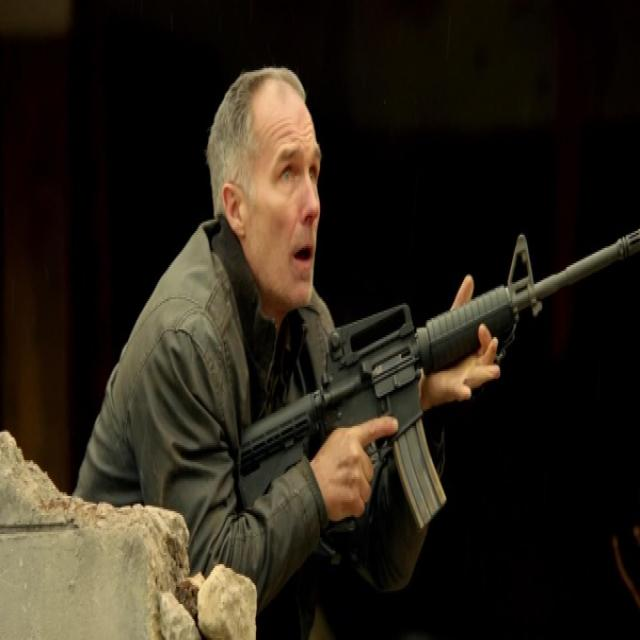rifle: (235, 224, 640, 549)
